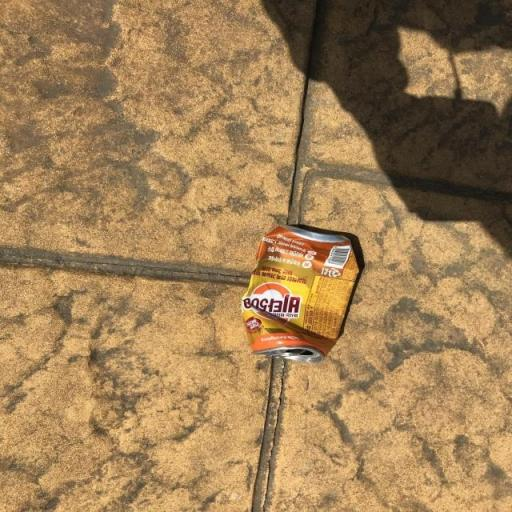metal: (228, 208, 380, 400)
